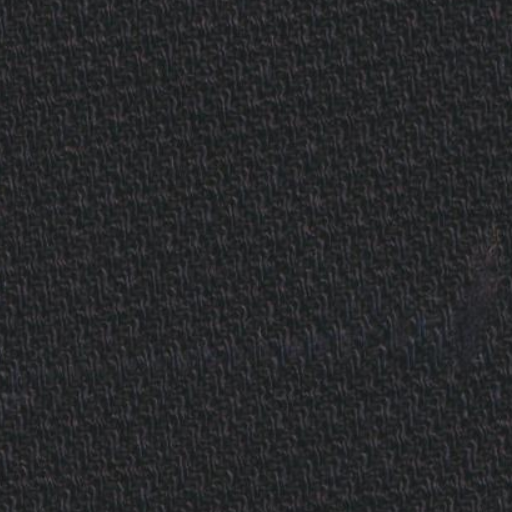DaiSha: (432, 198, 505, 394)
